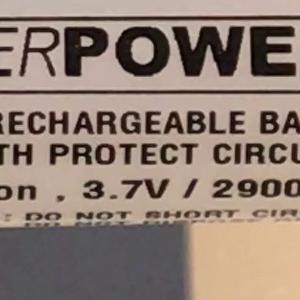3.7V: (73, 169, 180, 209)
